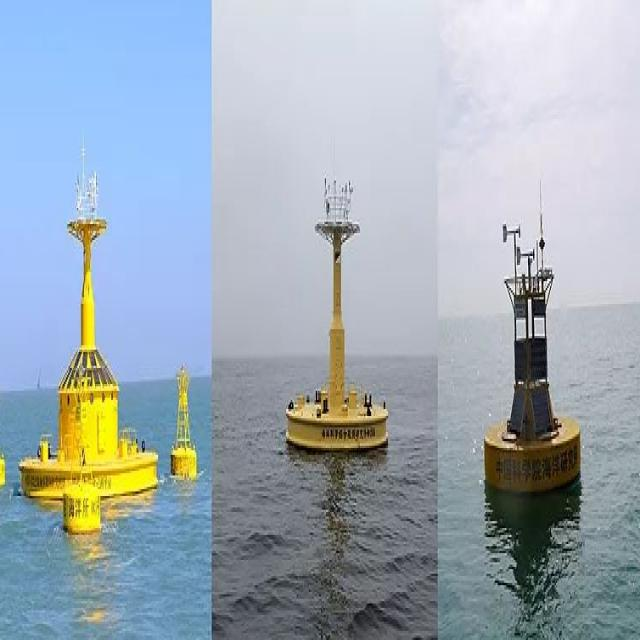buoy: (22, 157, 156, 505), (287, 162, 391, 450), (484, 200, 581, 490), (62, 372, 101, 533), (170, 359, 197, 481), (0, 379, 5, 492)
